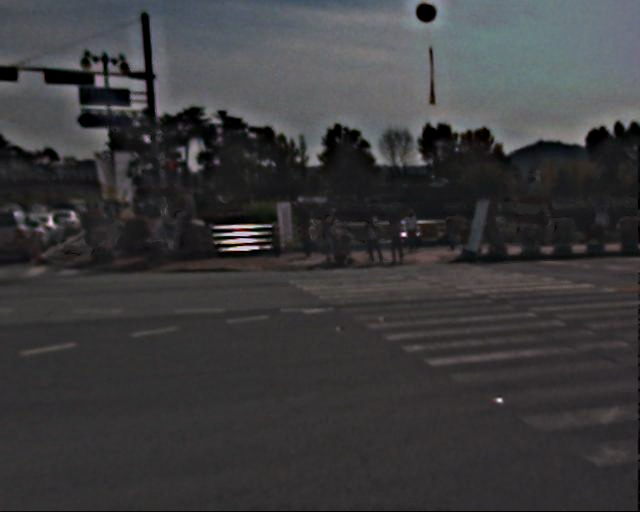person: (77, 201, 117, 246), (149, 207, 178, 266), (322, 207, 347, 267), (391, 213, 412, 264), (365, 212, 386, 262), (407, 206, 426, 253), (303, 211, 321, 254)
